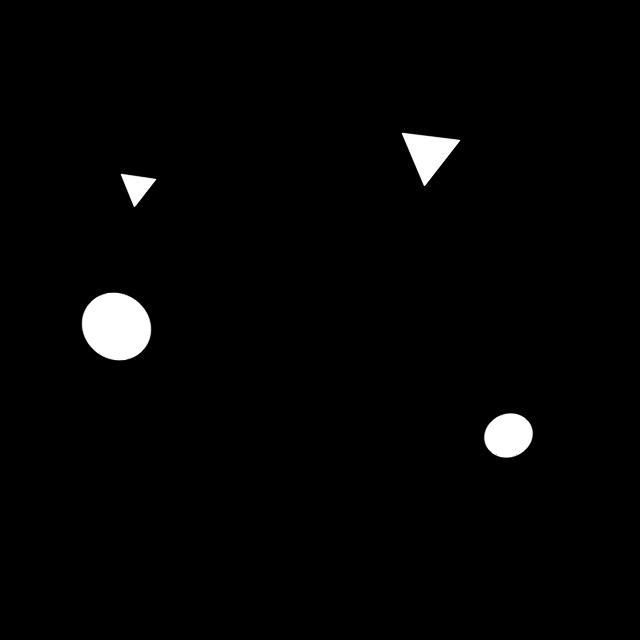Circle: (73, 285, 161, 367), (469, 406, 541, 468)
Triangle: (395, 124, 469, 192), (110, 161, 164, 216)
